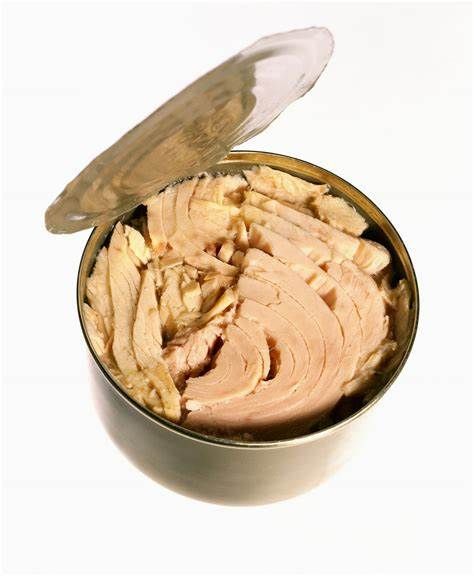Tuna: (69, 159, 411, 448)
